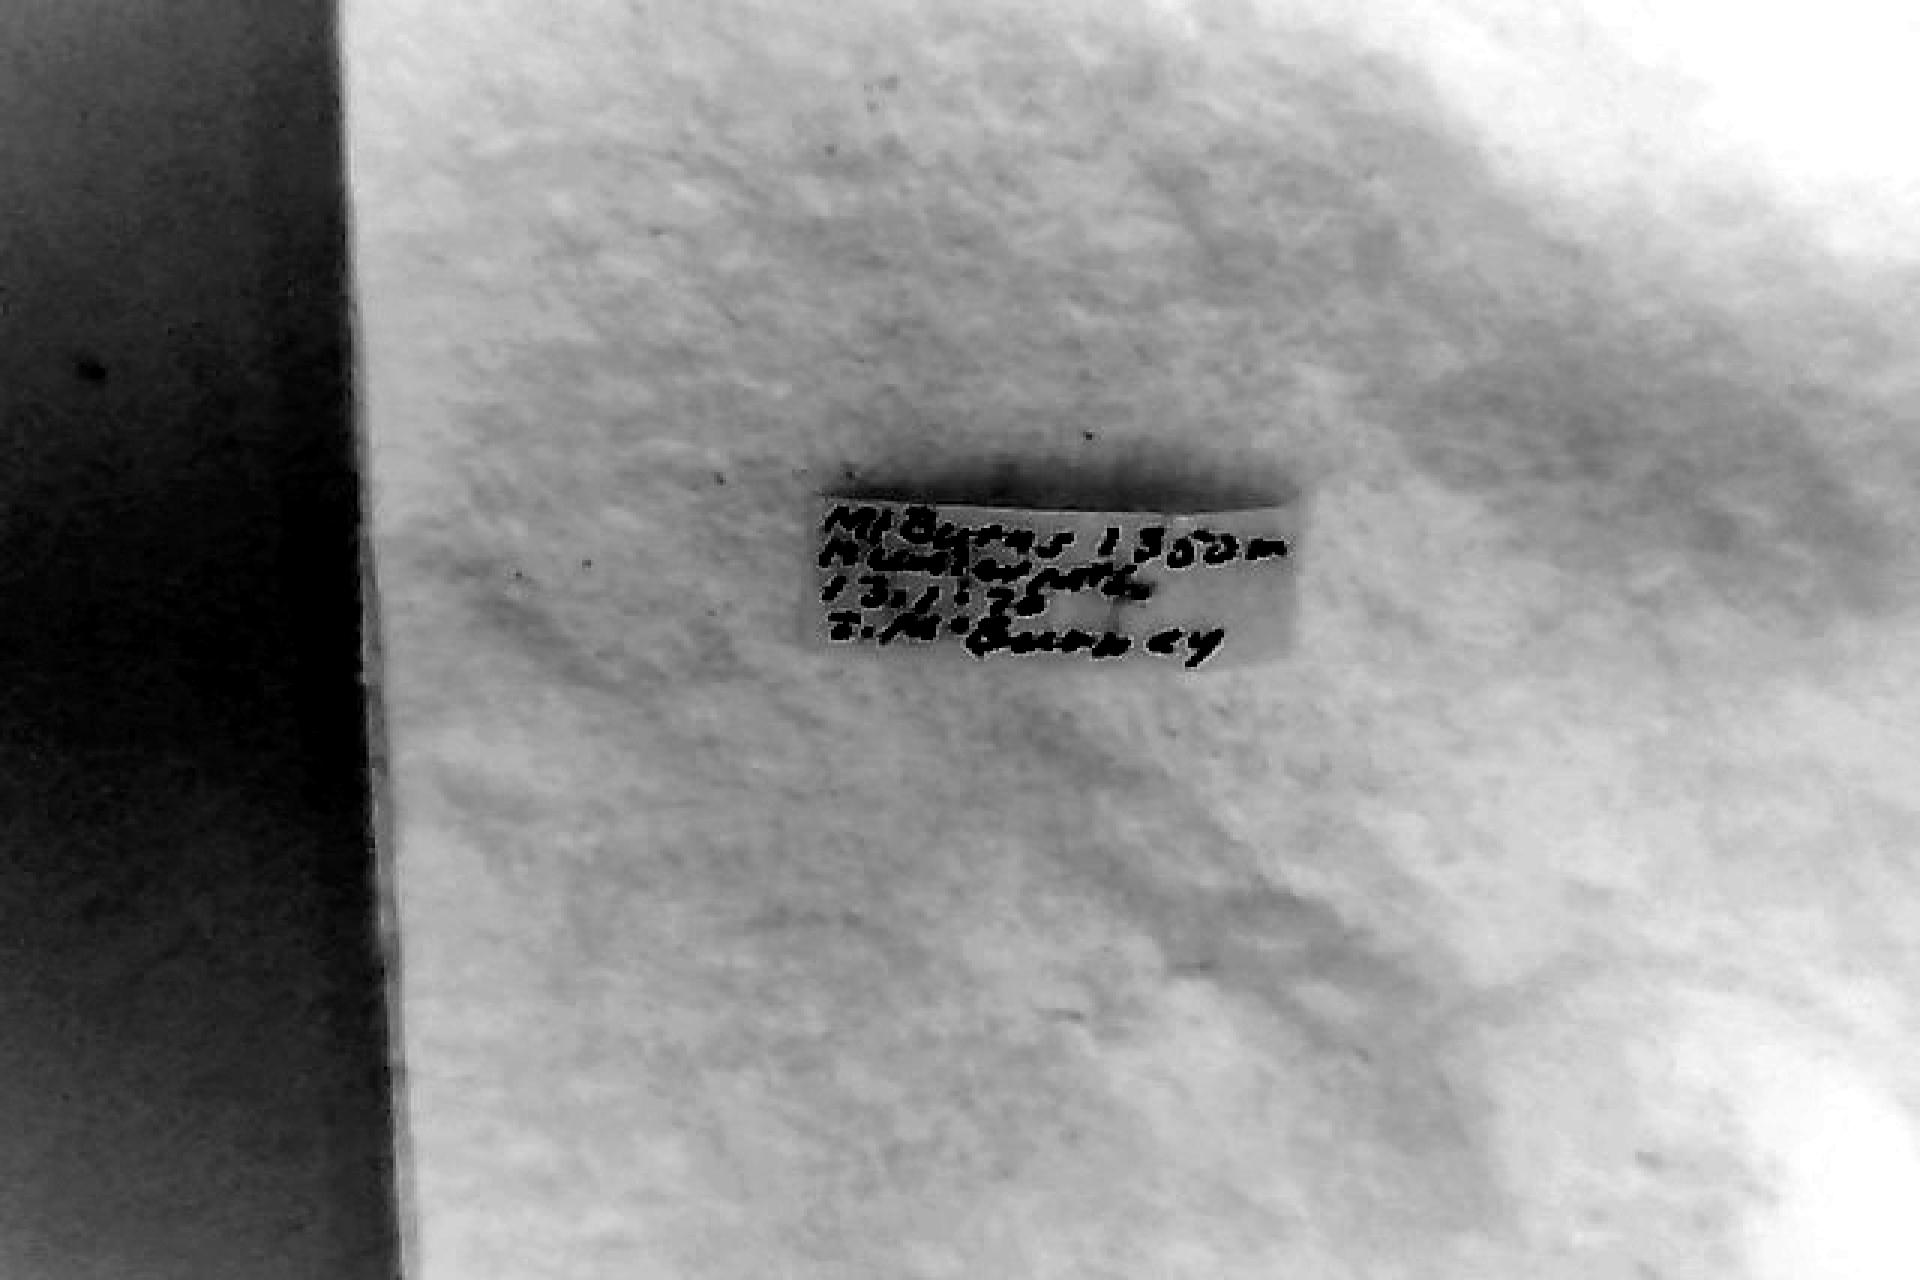hand_label: (817, 500, 1289, 666)
